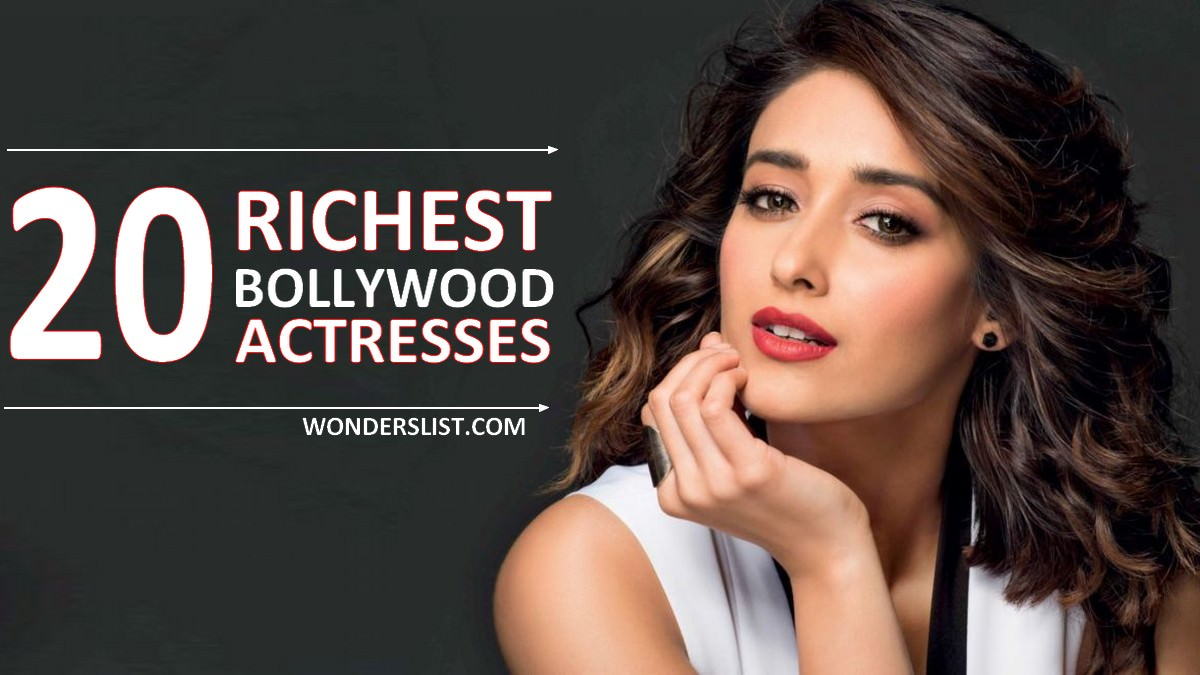NoMask: (722, 139, 952, 423)
